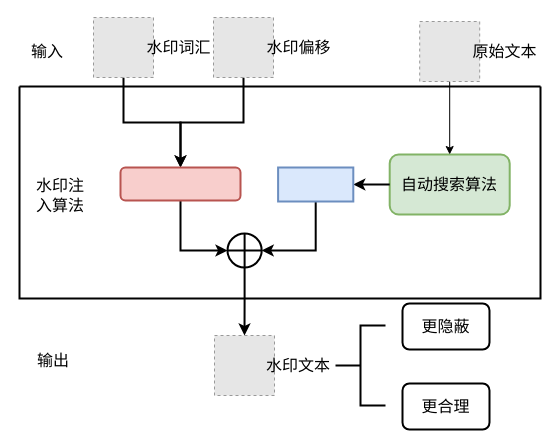
The diagram is 558 pixels wide and 448 high, and some of its shapes have lost their labels. Grey dashed boxes stand in for pictures. Here are the shapes that lost their labels. From the top down, the box of each, then its label:
(119, 166, 241, 201): 水印样本
(277, 166, 354, 202): 水印位置
